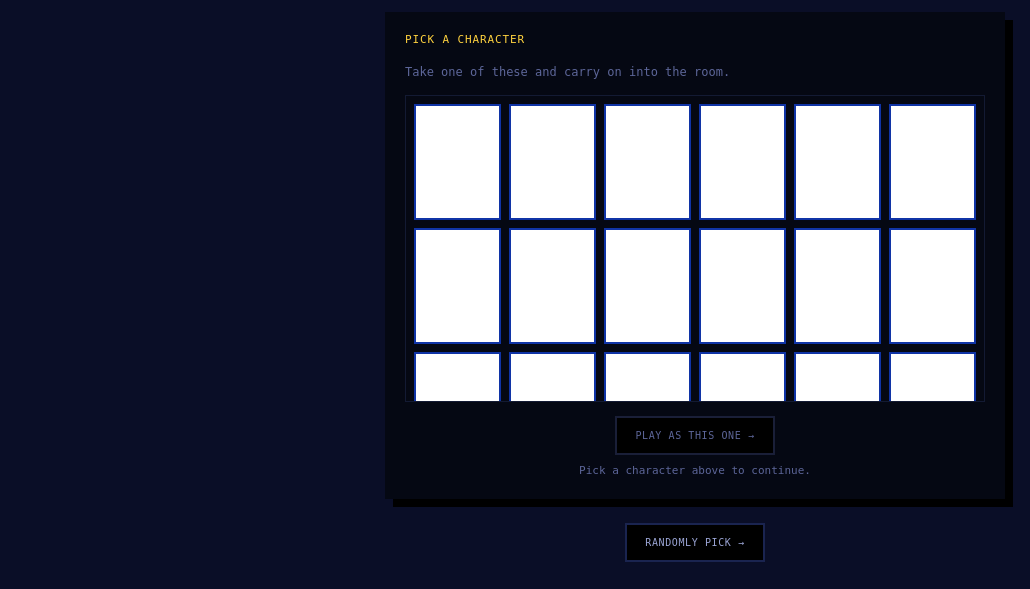
CharacterPicker › shows a refusal instead of reporting a save that did not happen
The width and height of the screenshot is (1030, 589).
Click the radio button named "Character 1".
click(458, 162)  # box top-left (414, 104), bottom-right (501, 220)
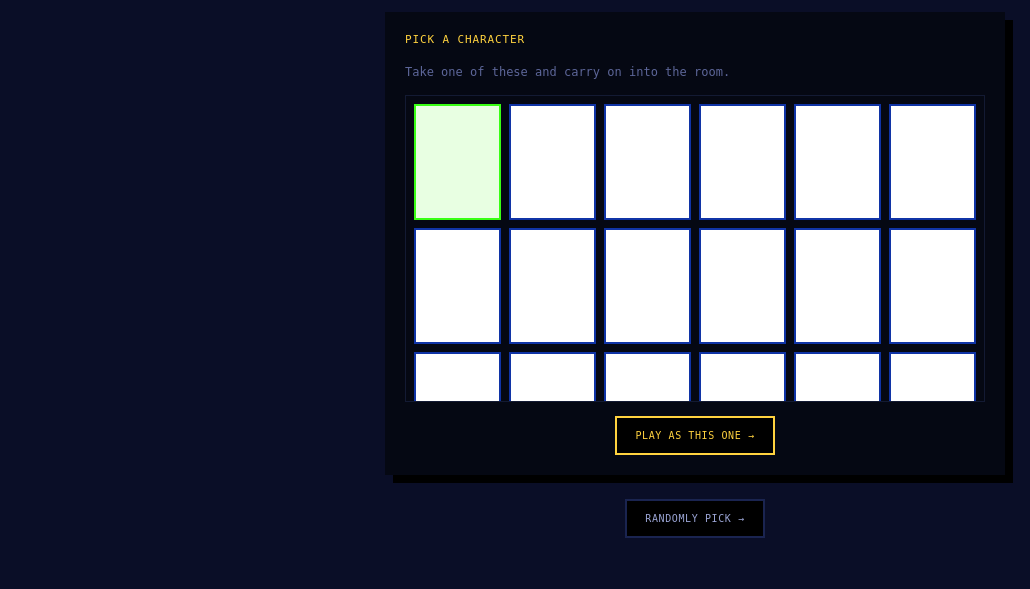
Click the button "PLAY AS THIS ONE →".
click(695, 435)  # box top-left (615, 416), bottom-right (775, 455)
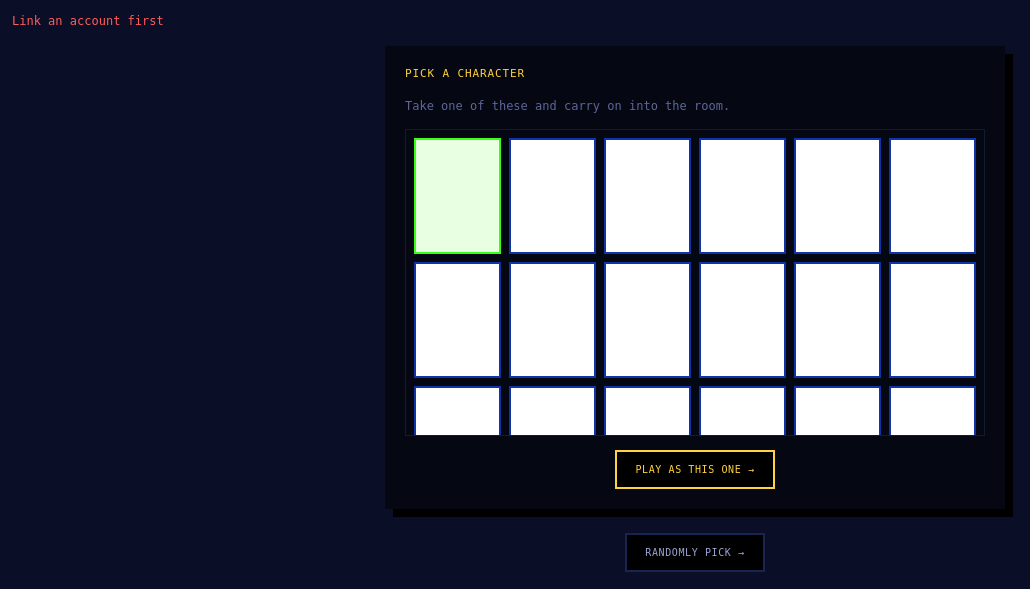
Check: the text "Link an account first" is shown, box top-left (12, 14), bottom-right (164, 28)
